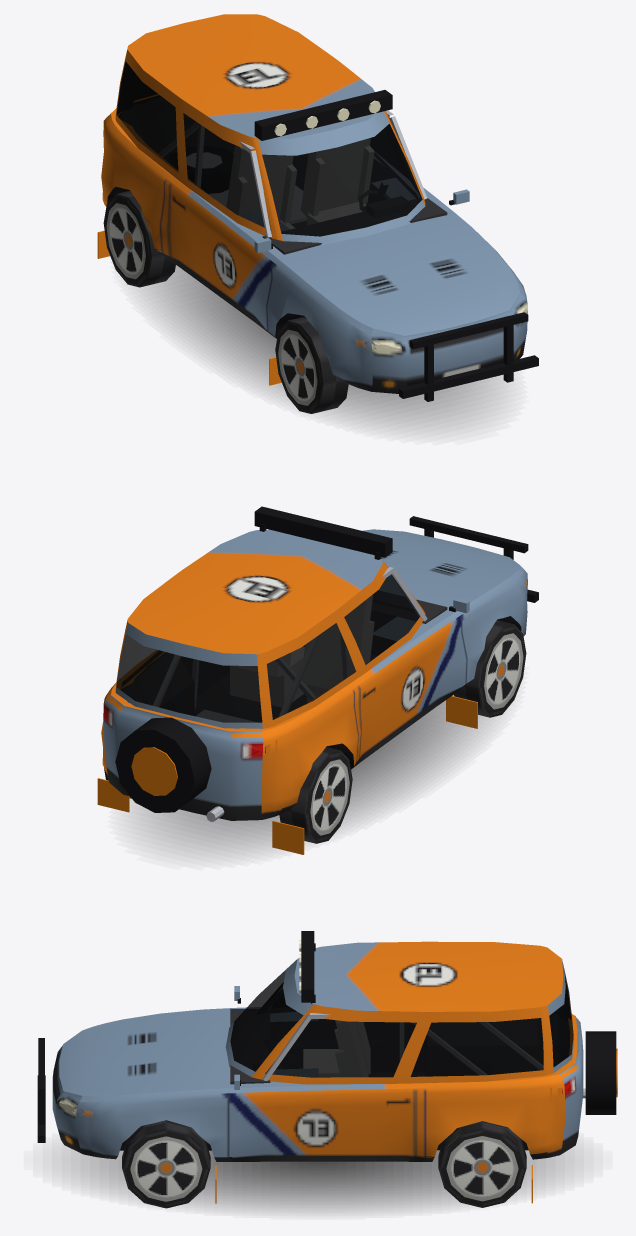
Rendered from boqueirao.glb.
3 views of the same model, one above another, from view 1: azimuth 30°, elevation 25°; view 2: azimuth 150°, elevation 25°; view 3: azimuth 270°, elevation 25° (orthographic). The views are drawn at different scales.
Visible parts, largest first — view 1: Carroceria, Interior, Capo_malha, Porta_D_malha, Sombra, Roda_DD, Roda_TD, Porta_E_malha, Porta_TD_malha, Tampa_malha; view 2: Carroceria, Tampa_malha, Interior, Porta_D_malha, Sombra, Capo_malha, Roda_TD, Roda_DD, Porta_TD_malha; view 3: Carroceria, Porta_E_malha, Interior, Sombra, Capo_malha, Roda_DE, Roda_TE, Tampa_malha, Porta_TE_malha.
Part boxes in pixels (left/top/right/bottom): Carroceria: left=97, top=14, right=538, bottom=401; Interior: left=120, top=97, right=447, bottom=316; Capo_malha: left=290, top=221, right=524, bottom=335; Porta_D_malha: left=168, top=103, right=277, bottom=330; Sombra: left=141, top=265, right=503, bottom=430; Roda_DD: left=275, top=316, right=348, bottom=413; Roda_TD: left=103, top=190, right=175, bottom=287; Porta_E_malha: left=370, top=111, right=469, bottom=205; Porta_TD_malha: left=160, top=99, right=186, bottom=255; Tampa_malha: left=117, top=62, right=160, bottom=116; Carroceria: left=97, top=506, right=538, bottom=854; Tampa_malha: left=113, top=623, right=262, bottom=812; Interior: left=121, top=567, right=447, bottom=721; Porta_D_malha: left=343, top=563, right=469, bottom=757; Sombra: left=131, top=695, right=492, bottom=855; Capo_malha: left=362, top=529, right=524, bottom=603; Roda_TD: left=279, top=747, right=352, bottom=843; Roda_DD: left=454, top=620, right=526, bottom=717; Porta_TD_malha: left=338, top=605, right=361, bottom=761; Carroceria: left=37, top=931, right=585, bottom=1203; Porta_E_malha: left=228, top=1005, right=414, bottom=1157; Interior: left=230, top=987, right=569, bottom=1084; Sombra: left=61, top=1148, right=574, bottom=1212; Capo_malha: left=63, top=1011, right=214, bottom=1101; Roda_DE: left=122, top=1120, right=210, bottom=1208; Roda_TE: left=438, top=1121, right=526, bottom=1207; Tampa_malha: left=547, top=959, right=617, bottom=1131; Porta_TE_malha: left=415, top=1011, right=424, bottom=1156.
Bounding box in the file's own units: 2.64 × 2.03 × 5.5.
Materials: 14 (5 with a texture image).
